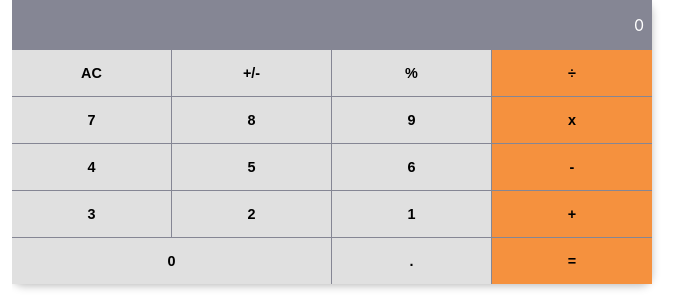
Test: Testing Calculator component with snapshot › test multiplication logic inside the Calculator component
Click the button "1" at [412, 214], box [332, 191, 492, 238]
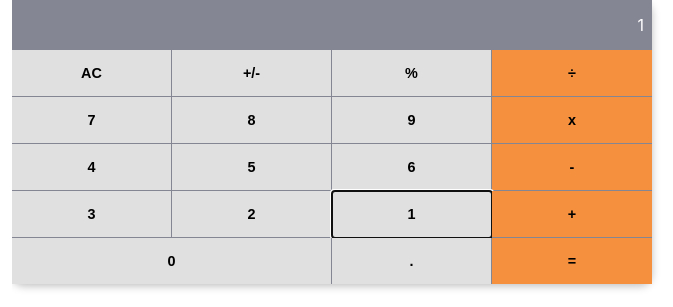
Click the button "1" at [412, 214], box [332, 191, 492, 238]
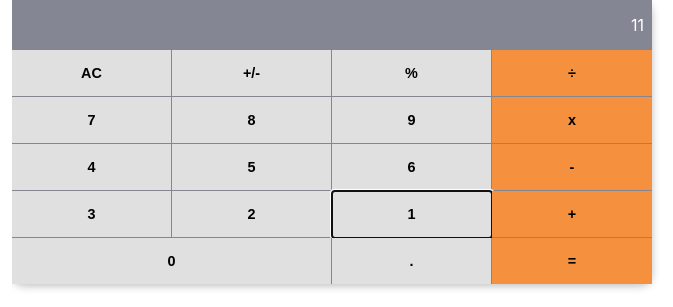
Click the button "x" at [572, 120], box [492, 97, 652, 144]
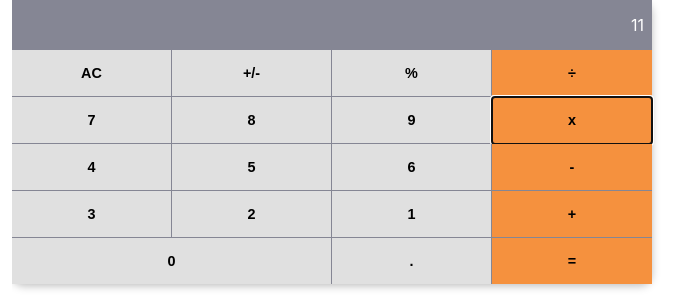
Click the button "2" at [252, 214], box [172, 191, 332, 238]
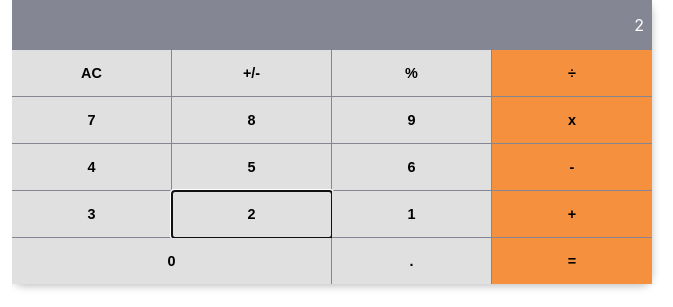
Click the button "=" at [572, 261], box [492, 238, 652, 284]
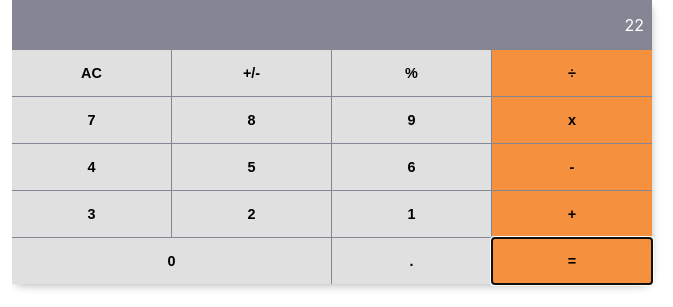
Result: the text with test id "total_value" reads "22" at [624, 15, 644, 35]
